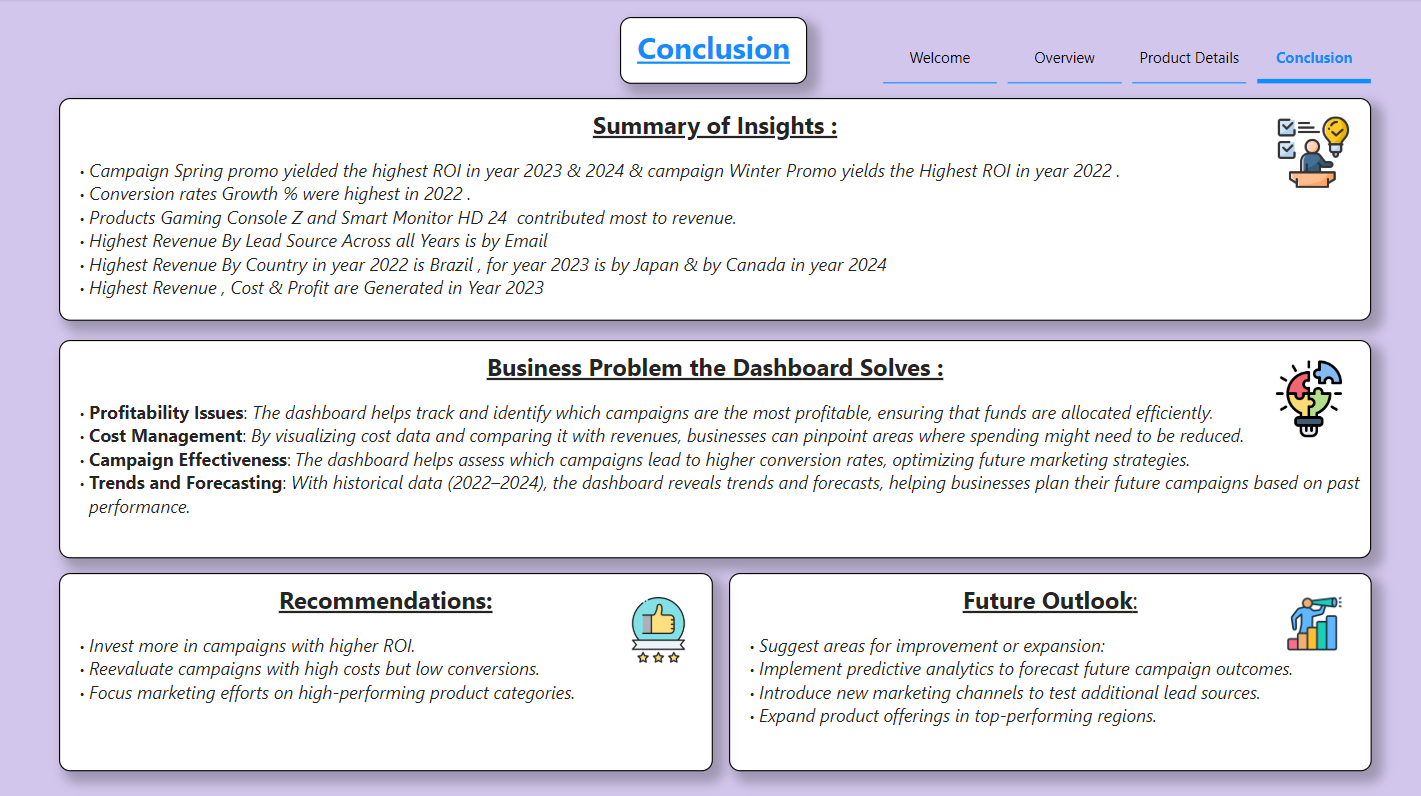

This screenshot's page, from the dashboard's own definition file:
{"tool":"powerbi","page":{"name":"Conclusion","canvas":[1280,720],"ordinal":3},"visuals":[{"type":"textbox","box":[557.1,17.2,168.1,60.1],"z":0},{"type":"textbox","box":[54,89.6,1177.9,200],"z":1000},{"type":"textbox","box":[54,306.8,1177.9,196.3],"z":2000},{"type":"textbox","box":[655.2,516.6,576.7,177.9],"z":3000},{"type":"textbox","box":[54,516.6,586.5,177.9],"z":4000},{"type":"pageNavigator","box":[793.9,29.4,438,47.9],"z":5000},{"type":"image","box":[1132.5,316.6,85.9,85.9],"z":6000},{"type":"image","box":[557.1,528.8,68.7,77.3],"z":7000},{"type":"image","box":[1142.3,528.8,77.3,66.3],"z":8000},{"type":"image","box":[1141.1,101.8,77.3,73.6],"z":9000}]}

Visuals, with their boxes in screenshot pixels (x1, y1, x2, y2), scaled from the page's 1280x720 canvas onto the 1421x796 screenshot:
textbox: detection(618, 19, 805, 85)
textbox: detection(60, 99, 1368, 320)
textbox: detection(60, 339, 1368, 556)
textbox: detection(727, 571, 1368, 768)
textbox: detection(60, 571, 711, 768)
pageNavigator: detection(881, 33, 1368, 85)
image: detection(1257, 350, 1353, 445)
image: detection(618, 585, 695, 670)
image: detection(1268, 585, 1354, 658)
image: detection(1267, 113, 1353, 194)
